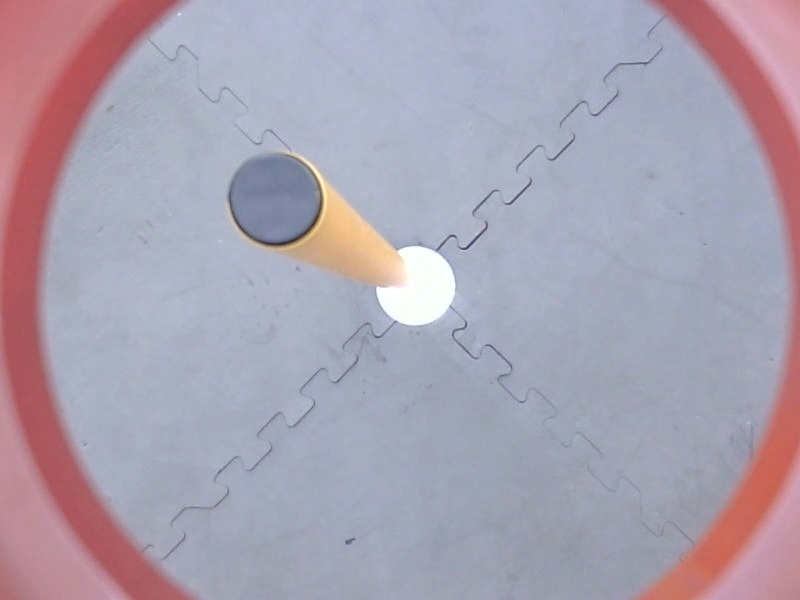tip: (219, 146, 332, 255)
